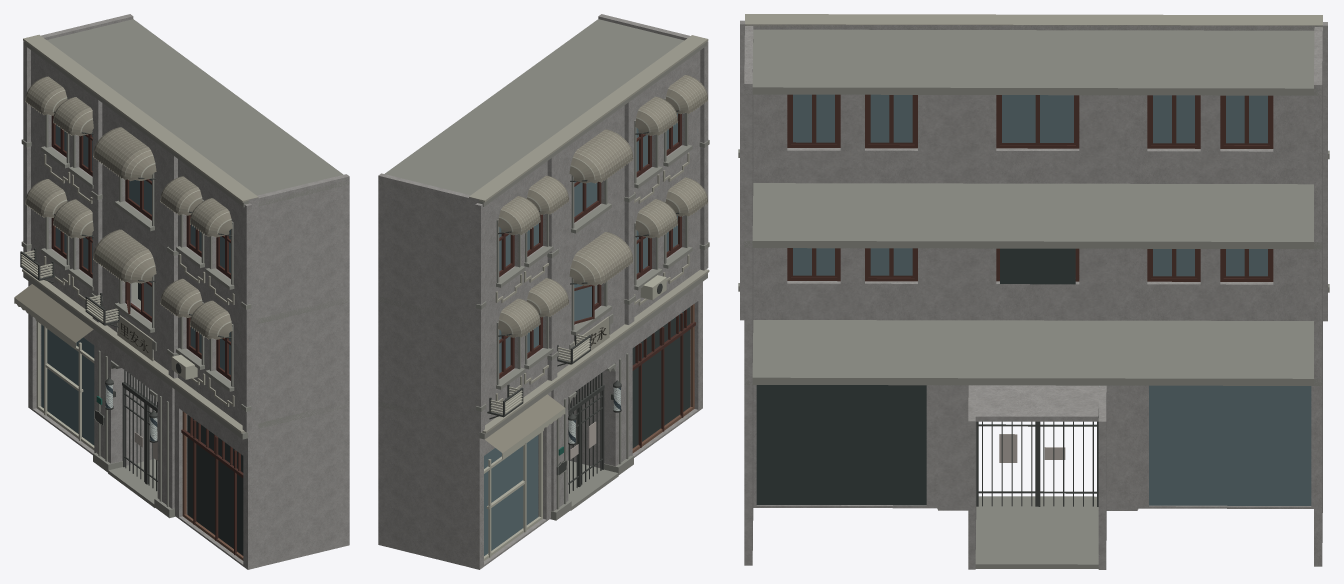
File: hongkou-yonganli-duolun-174-awning-front-lod.glb
3 views of the same model, side by side, from view 1: azimuth 30°, elevation 25°; view 2: azimuth 150°, elevation 25°; view 3: azimuth 270°, elevation 25° (orthographic). The views are drawn at different scales.
Parts seen in each view (by area): view 1: 永安里多伦路174号题名门与双窗条篷; view 2: 永安里多伦路174号题名门与双窗条篷; view 3: 永安里多伦路174号题名门与双窗条篷.
Boxes of the visible parts, <box> form: 永安里多伦路174号题名门与双窗条篷: <box>14,14,349,569</box>; 永安里多伦路174号题名门与双窗条篷: <box>378,14,709,569</box>; 永安里多伦路174号题名门与双窗条篷: <box>738,14,1329,569</box>.
Bounding box in the file's own units: 4.03 × 10.92 × 12.01.
17 materials, 1 textured.
